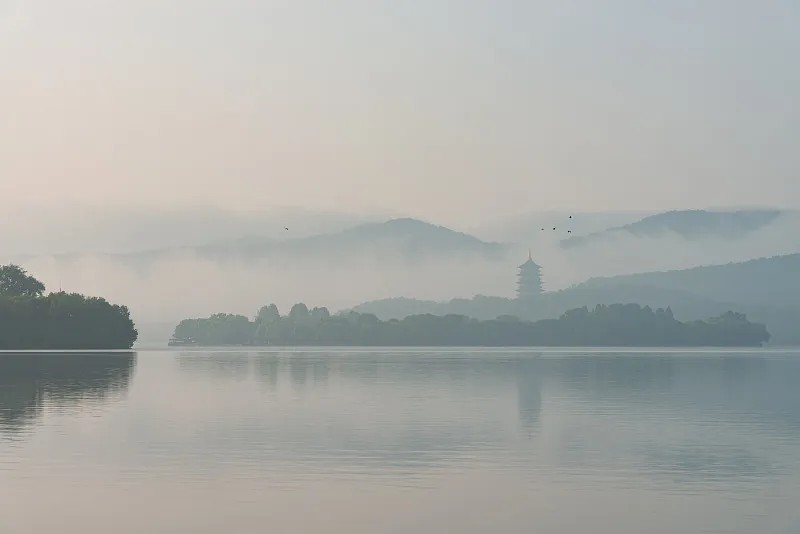Leifeng: (514, 246, 545, 297)
